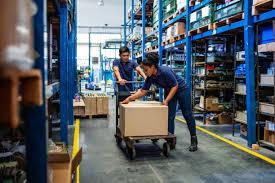Boxes: (118, 103, 169, 136)
